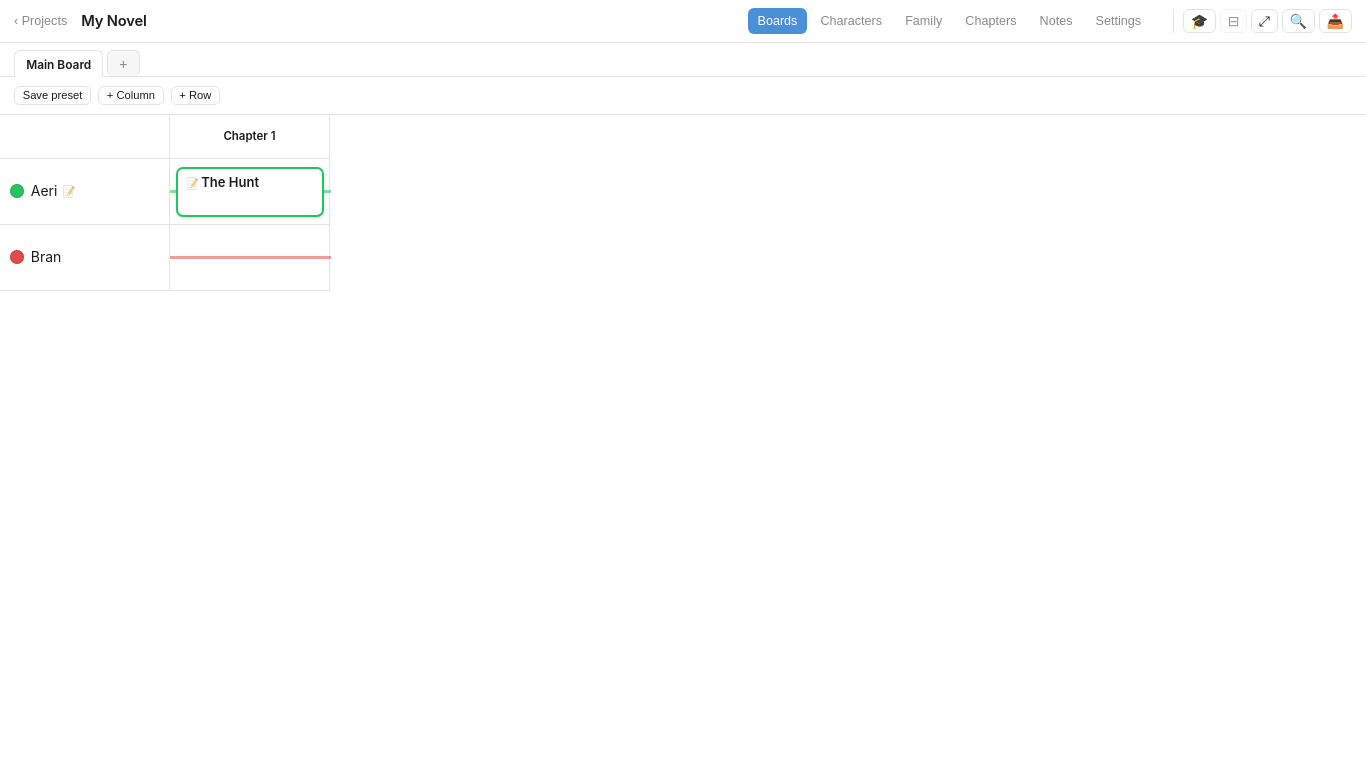
Test: the board’s note side panel › closes when the fullscreen editor opens, so it cannot come back showing a stale body
Check: the heading "My Novel" is shown, box [81, 12, 147, 30]
Click the text "The Hunt". click: click(222, 182)
box: [186, 174, 259, 190]
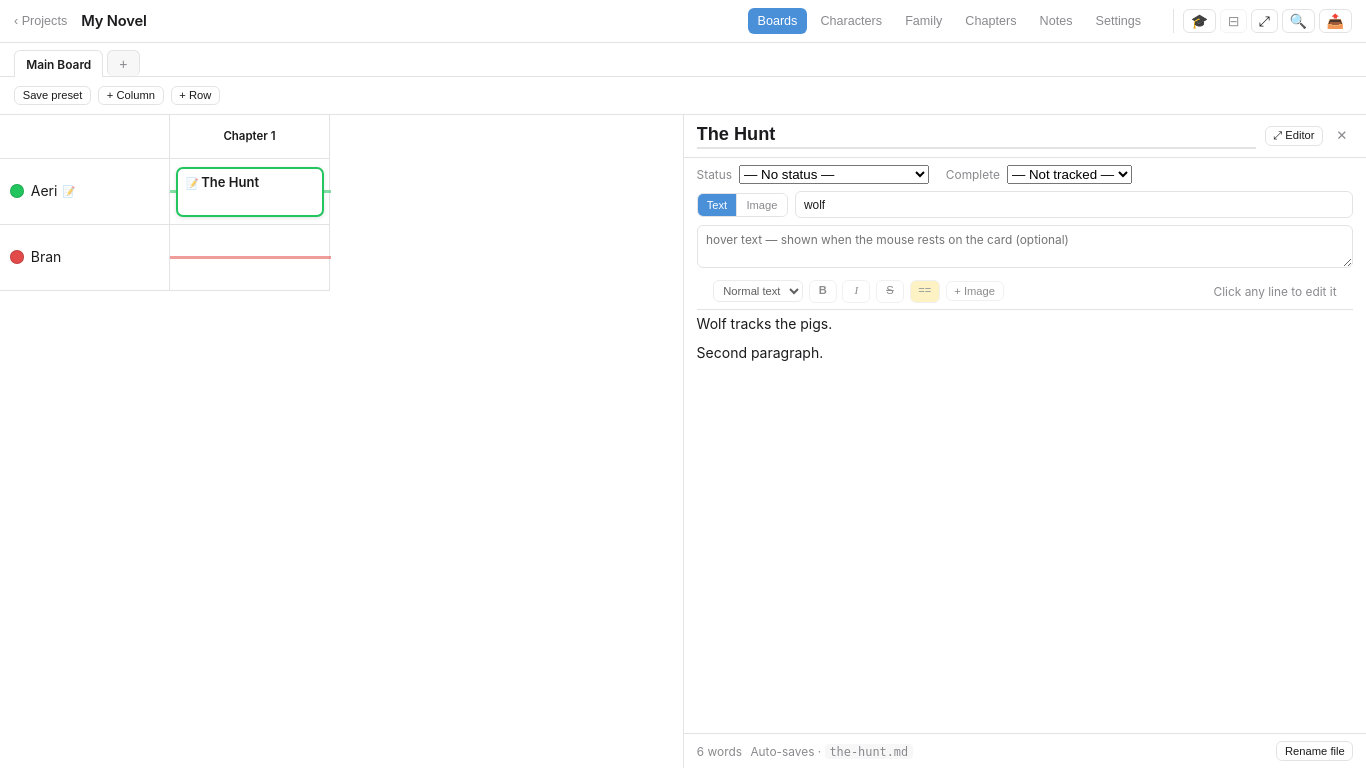
Check: the element named "Note" is shown, box [683, 114, 1365, 767]
Click the button "⤢ Editor". click: click(1294, 136)
box: [1265, 126, 1323, 146]
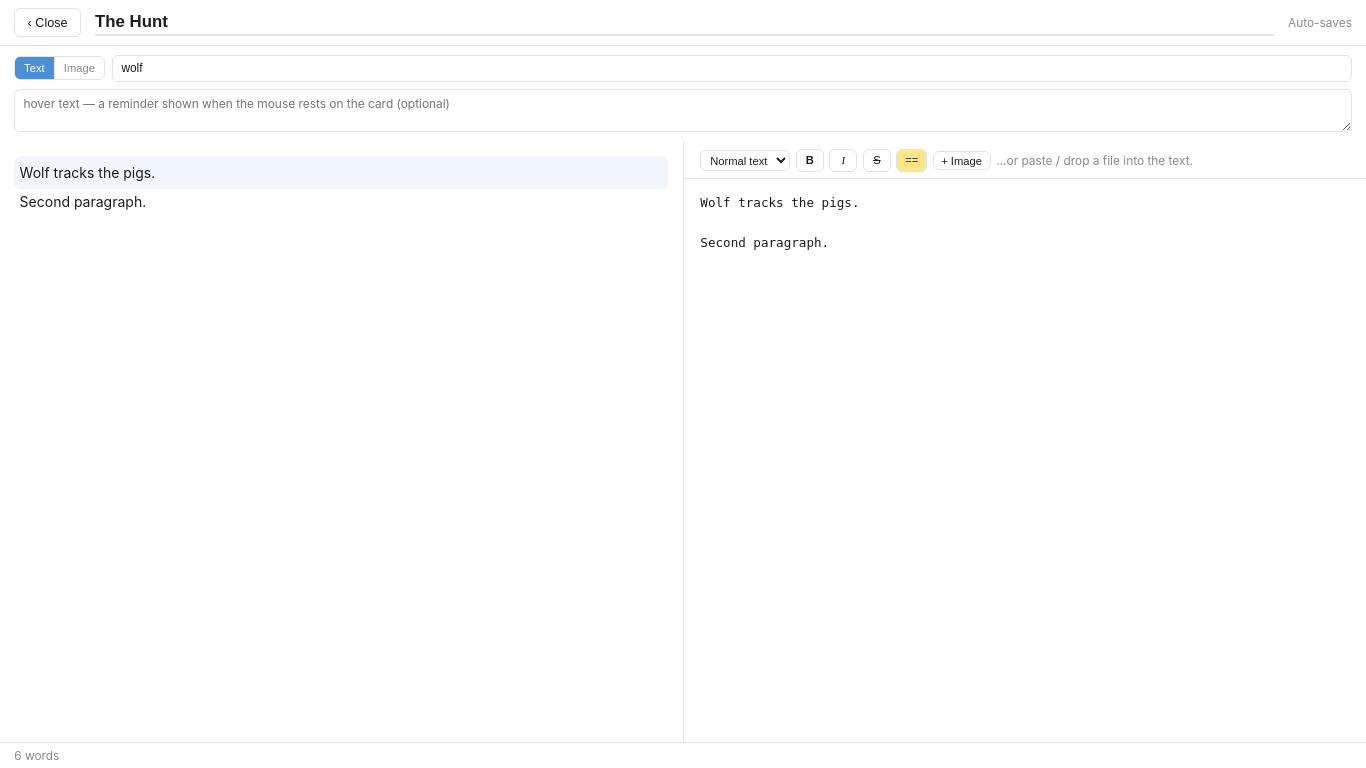
Check: the text box with placeholder "Write in Markdown…" is shown, box [684, 179, 1365, 742]
